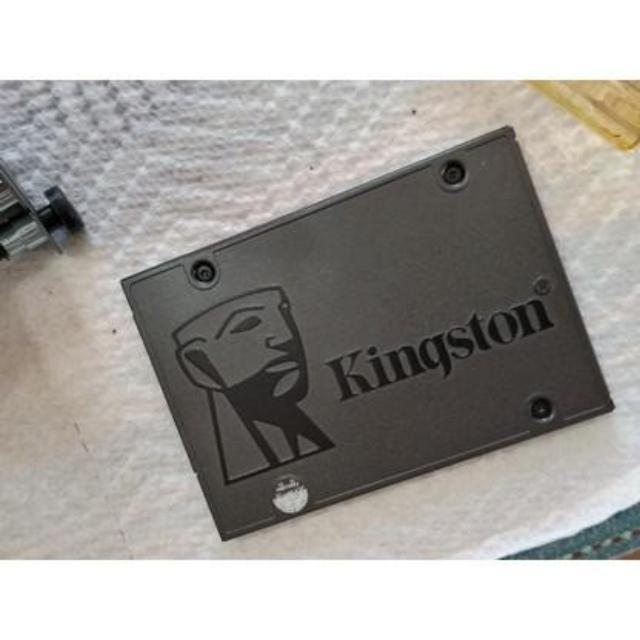DISK: (132, 132, 623, 546)
